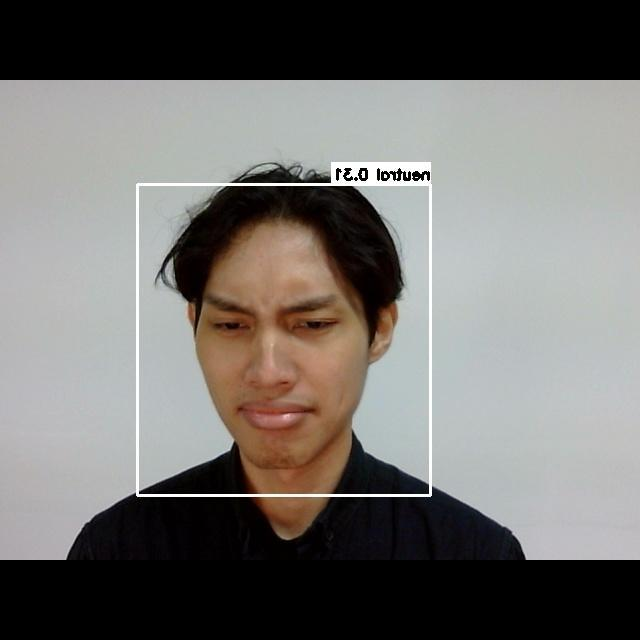Disgust: (171, 269, 383, 442)
